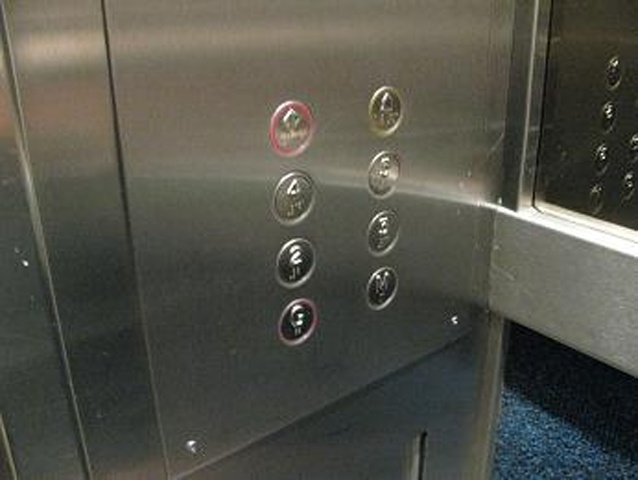2: (274, 234, 317, 288)
3: (366, 207, 400, 255)
4: (271, 166, 317, 225)
5: (366, 148, 401, 198)
G: (276, 295, 318, 346)
M: (366, 263, 398, 310)
alarm: (365, 84, 405, 138)
blur: (597, 100, 617, 135), (604, 56, 624, 90), (586, 185, 607, 216), (593, 143, 611, 175)
open: (269, 97, 314, 159)
